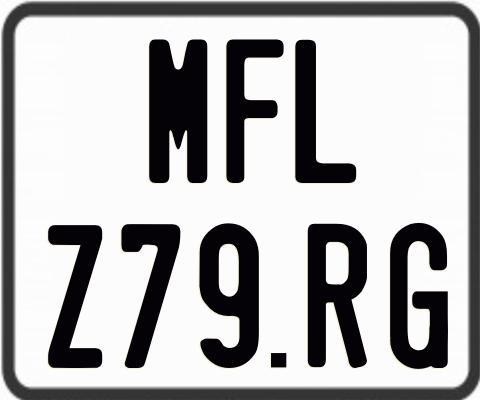7: (120, 222, 180, 369)
9: (198, 223, 264, 371)
F: (225, 38, 284, 188)
G: (390, 223, 451, 373)
L: (293, 40, 359, 185)
M: (147, 36, 207, 186)
R: (306, 221, 365, 368)
Z: (48, 223, 108, 371)
